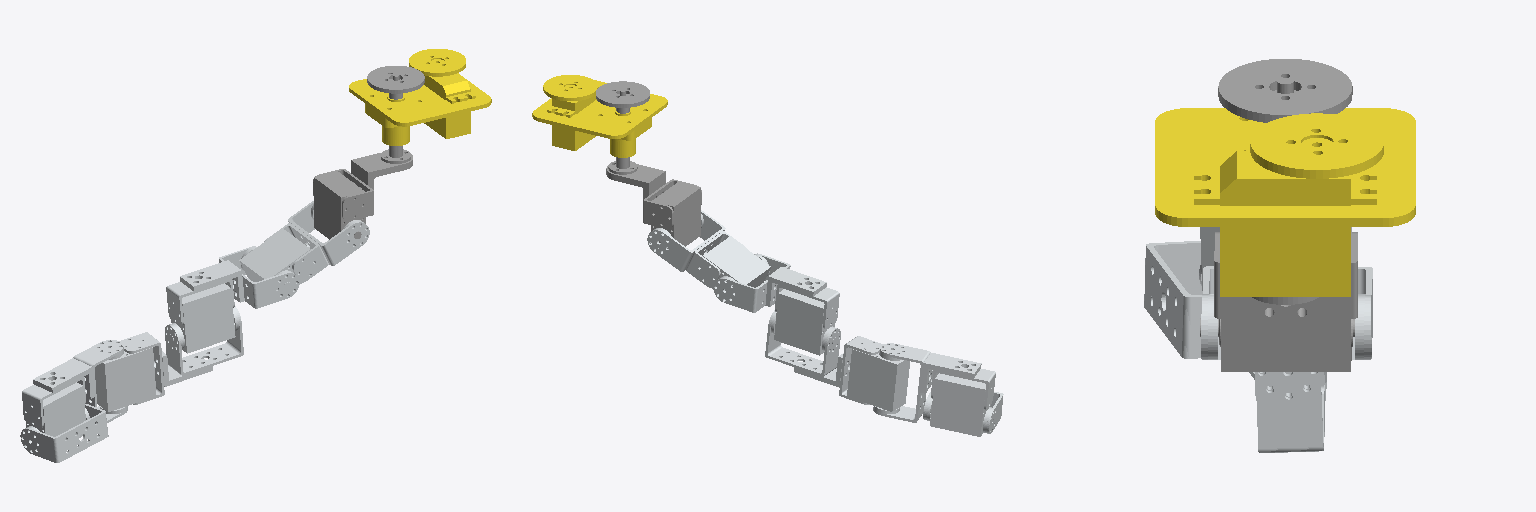
The robot description file, URDF, robot "myrobot":
<?xml version="1.0" encoding="utf-8"?>
<!-- This URDF was automatically created by SolidWorks to URDF Exporter! Originally created by [author] ([email redacted]) 
     Commit Version: 1.6.0-4-g7f85cfe  Build Version: 1.6.7995.38578
     For more information, please see http://wiki.ros.org/sw_urdf_exporter -->
<robot
  name="myrobot">
  <link
    name="base_link">
    <inertial>
      <origin
        xyz="0.0084167 0.00054972 -0.0040666"
        rpy="0 0 0" />
      <mass
        value="0.1218" />
      <inertia
        ixx="4.2685E-05"
        ixy="-1.9391E-21"
        ixz="-5.6265E-24"
        iyy="3.3248E-05"
        iyz="-2.418E-07"
        izz="5.7023E-05" />
    </inertial>
    <visual>
      <origin
        xyz="0 0 0"
        rpy="0 0 0" />
      <geometry>
        <mesh
          filename="package://myrobot/meshes/base_link.STL" />
      </geometry>
      <material
        name="">
        <color
          rgba="1 0.91373 0.24706 1" />
      </material>
    </visual>
    <collision>
      <origin
        xyz="0 0 0"
        rpy="0 0 0" />
      <geometry>
        <mesh
          filename="package://myrobot/meshes/Link0.STL" />
      </geometry>
    </collision>
  </link>
  <link
    name="Link1">
    <inertial>
      <origin
        xyz="-0.030517 3.4407E-05 0.053377"
        rpy="0 0 0" />
      <mass
        value="0.11358" />
      <inertia
        ixx="2.5955E-05"
        ixy="7.356E-19"
        ixz="4.4045E-07"
        iyy="1.7784E-05"
        iyz="-3.7239E-08"
        izz="1.7387E-05" />
    </inertial>
    <visual>
      <origin
        xyz="0 0 0"
        rpy="0 0 0" />
      <geometry>
        <mesh
          filename="package://myrobot/meshes/Link1.STL" />
      </geometry>
      <material
        name="">
        <color
          rgba="0.69804 0.69804 0.69804 1" />
      </material>
    </visual>
    <collision>
      <origin
        xyz="0 0 0"
        rpy="0 0 0" />
      <geometry>
        <mesh
          filename="package://myrobot/meshes/Link1.STL" />
      </geometry>
    </collision>
  </link>
  <joint
    name="Joint0"
    type="continuous">
    <origin
      xyz="-0.02 0 0"
      rpy="-3.1416 0 -0.0057662" />
    <parent
      link="base_link" />
    <child
      link="Link1" />
    <axis
      xyz="0 0 1" />
  </joint>
  <link
    name="Link2">
    <inertial>
      <origin
        xyz="6.9389E-17 0.044669 -7.8627E-06"
        rpy="0 0 0" />
      <mass
        value="0.089477" />
      <inertia
        ixx="2.6927E-05"
        ixy="1.2866E-21"
        ixz="1.5751E-18"
        iyy="1.9359E-05"
        iyz="3.7239E-08"
        izz="1.3371E-05" />
    </inertial>
    <visual>
      <origin
        xyz="0 0 0"
        rpy="0 0 0" />
      <geometry>
        <mesh
          filename="package://myrobot/meshes/Link2.STL" />
      </geometry>
      <material
        name="">
        <color
          rgba="0.89804 0.91765 0.92941 1" />
      </material>
    </visual>
    <collision>
      <origin
        xyz="0 0 0"
        rpy="0 0 0" />
      <geometry>
        <mesh
          filename="package://myrobot/meshes/Link2.STL" />
      </geometry>
    </collision>
  </link>
  <joint
    name="Joint1"
    type="continuous">
    <origin
      xyz="-0.0465000000000003 0 0.0836499999999999"
      rpy="1.57079632679489 -1.13894515984459 0" />
    <parent
      link="Link1" />
    <child
      link="Link2" />
    <axis
      xyz="0 0 1" />
  </joint>
  <link
    name="Link3">
    <inertial>
      <origin
        xyz="0.015065 0.047481 0.0003083"
        rpy="0 0 0" />
      <mass
        value="0.092872" />
      <inertia
        ixx="2.0796E-05"
        ixy="-2.2101E-07"
        ixz="-1.2744E-09"
        iyy="1.7188E-05"
        iyz="-3.5145E-08"
        izz="2.3282E-05" />
    </inertial>
    <visual>
      <origin
        xyz="0 0 0"
        rpy="0 0 0" />
      <geometry>
        <mesh
          filename="package://myrobot/meshes/Link3.STL" />
      </geometry>
      <material
        name="">
        <color
          rgba="0.89804 0.91765 0.92941 1" />
      </material>
    </visual>
    <collision>
      <origin
        xyz="0 0 0"
        rpy="0 0 0" />
      <geometry>
        <mesh
          filename="package://myrobot/meshes/Link3.STL" />
      </geometry>
    </collision>
  </link>
  <joint
    name="Joint2"
    type="continuous">
    <origin
      xyz="0 0.06365 0"
      rpy="-0.0057662 0 0.43185" />
    <parent
      link="Link2" />
    <child
      link="Link3" />
    <axis
      xyz="0 0 1" />
  </joint>
  <link
    name="Link4">
    <inertial>
      <origin
        xyz="-5.8271E-14 0.015686 -0.081731"
        rpy="0 0 0" />
      <mass
        value="0.092872" />
      <inertia
        ixx="2.761E-05"
        ixy="1.899E-18"
        ixz="-1.1832E-18"
        iyy="1.7538E-05"
        iyz="-1.1758E-07"
        izz="1.6118E-05" />
    </inertial>
    <visual>
      <origin
        xyz="0 0 0"
        rpy="0 0 0" />
      <geometry>
        <mesh
          filename="package://myrobot/meshes/Link4.STL" />
      </geometry>
      <material
        name="">
        <color
          rgba="0.89804 0.91765 0.92941 1" />
      </material>
    </visual>
    <collision>
      <origin
        xyz="0 0 0"
        rpy="0 0 0" />
      <geometry>
        <mesh
          filename="package://myrobot/meshes/Link4.STL" />
      </geometry>
    </collision>
  </link>
  <joint
    name="Joint3"
    type="continuous">
    <origin
      xyz="0.028096 0.024938 0.0001438"
      rpy="1.7275 1.534 0.063322" />
    <parent
      link="Link3" />
    <child
      link="Link4" />
    <axis
      xyz="0 0 1" />
  </joint>
  <link
    name="Link5">
    <inertial>
      <origin
        xyz="1.0422E-14 0.048595 -0.018266"
        rpy="0 0 0" />
      <mass
        value="0.092872" />
      <inertia
        ixx="2.761E-05"
        ixy="3.8498E-19"
        ixz="1.2532E-18"
        iyy="1.7178E-05"
        iyz="-1.9206E-07"
        izz="1.6478E-05" />
    </inertial>
    <visual>
      <origin
        xyz="0 0 0"
        rpy="0 0 0" />
      <geometry>
        <mesh
          filename="package://myrobot/meshes/Link5.STL" />
      </geometry>
      <material
        name="">
        <color
          rgba="0.89804 0.91765 0.92941 1" />
      </material>
    </visual>
    <collision>
      <origin
        xyz="0 0 0"
        rpy="0 0 0" />
      <geometry>
        <mesh
          filename="package://myrobot/meshes/Link5.STL" />
      </geometry>
    </collision>
  </link>
  <joint
    name="Joint4"
    type="continuous">
    <origin
      xyz="0 0 -0.106202496734865"
      rpy="-1.5707963267949 0.247093949073706 -3.14159265358959" />
    <parent
      link="Link4" />
    <child
      link="Link5" />
    <axis
      xyz="0 0 1" />
  </joint>
  <link
    name="Link6">
    <inertial>
      <origin
        xyz="2.4258E-14 0.012025 0.025207"
        rpy="0 0 0" />
      <mass
        value="0.016021" />
      <inertia
        ixx="6.138E-06"
        ixy="-8.8674E-22"
        ixz="-6.5281E-21"
        iyy="5.3342E-06"
        iyz="-2.5146E-21"
        izz="1.8104E-06" />
    </inertial>
    <visual>
      <origin
        xyz="0 0 0"
        rpy="0 0 0" />
      <geometry>
        <mesh
          filename="package://myrobot/meshes/Link6.STL" />
      </geometry>
      <material
        name="">
        <color
          rgba="0.89804 0.91765 0.92941 1" />
      </material>
    </visual>
    <collision>
      <origin
        xyz="0 0 0"
        rpy="0 0 0" />
      <geometry>
        <mesh
          filename="package://myrobot/meshes/Link6.STL" />
      </geometry>
    </collision>
  </link>
  <joint
    name="Joint5"
    type="continuous">
    <origin
      xyz="0 0.0319927225582785 -0.0316499999999904"
      rpy="1.57079632679486 1.50652247400493 3.14159265358979" />
    <parent
      link="Link5" />
    <child
      link="Link6" />
    <axis
      xyz="0 0 1" />
  </joint>
</robot>

--- Render facts (derived) ---
Views: 3 orthographic renders of the robot side by side, from view 1: azimuth 30°, elevation 25°; view 2: azimuth 150°, elevation 25°; view 3: azimuth 270°, elevation 25°.
Model myrobot with 7 links and 6 joints (6 continuous), rooted at base_link, posed all joints at 0.
Links seen in each view (by area): view 1: base_link, Link3, Link4, Link1, Link5, Link2, Link6; view 2: Link3, Link4, base_link, Link5, Link1, Link2, Link6; view 3: base_link, Link1, Link6, Link4, Link2, Link3, Link5.
Boxes of the visible links, x1,y1,x2,y2 form: base_link: [349, 49, 491, 145]; Link3: [166, 246, 298, 353]; Link4: [95, 306, 243, 411]; Link1: [313, 66, 424, 239]; Link5: [22, 340, 127, 439]; Link2: [239, 201, 369, 289]; Link6: [20, 404, 108, 462]; Link3: [714, 253, 839, 355]; Link4: [765, 310, 909, 411]; base_link: [532, 75, 667, 157]; Link5: [873, 343, 995, 436]; Link1: [596, 81, 701, 246]; Link2: [647, 210, 770, 291]; Link6: [923, 392, 1003, 433]; base_link: [1155, 108, 1415, 296]; Link1: [1200, 59, 1357, 371]; Link6: [1144, 241, 1202, 358]; Link4: [1255, 372, 1326, 452]; Link2: [1201, 294, 1371, 359]; Link3: [1203, 266, 1372, 395]; Link5: [1200, 227, 1326, 388].
Size in the robot's own frame: 0.3754 by 0.0834 by 0.2194 metres.
Meshes: 7 distinct files referenced, 7 mesh visuals loaded (7 binary STL).